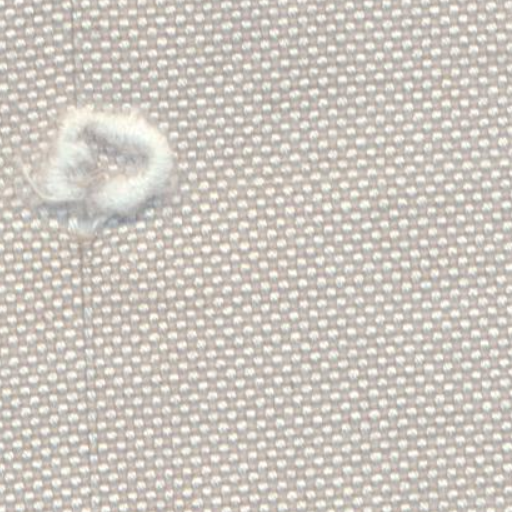DuanSha: (28, 84, 181, 250)
